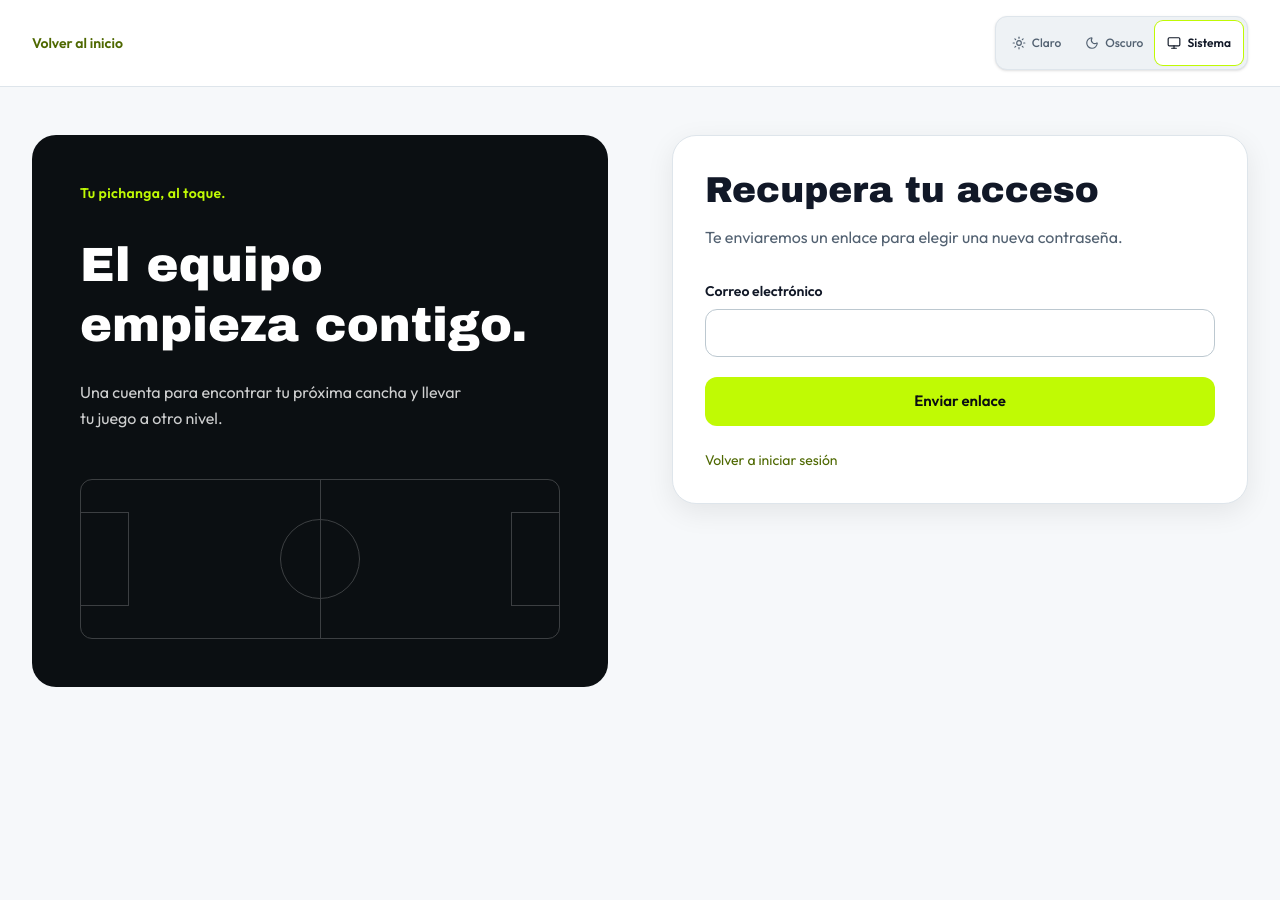
Scenario: recuperación muestra un mensaje que no revela si existe el correo
In the field with id "correo": (960, 333) [705,309,1215,357], type "ana@example.com"
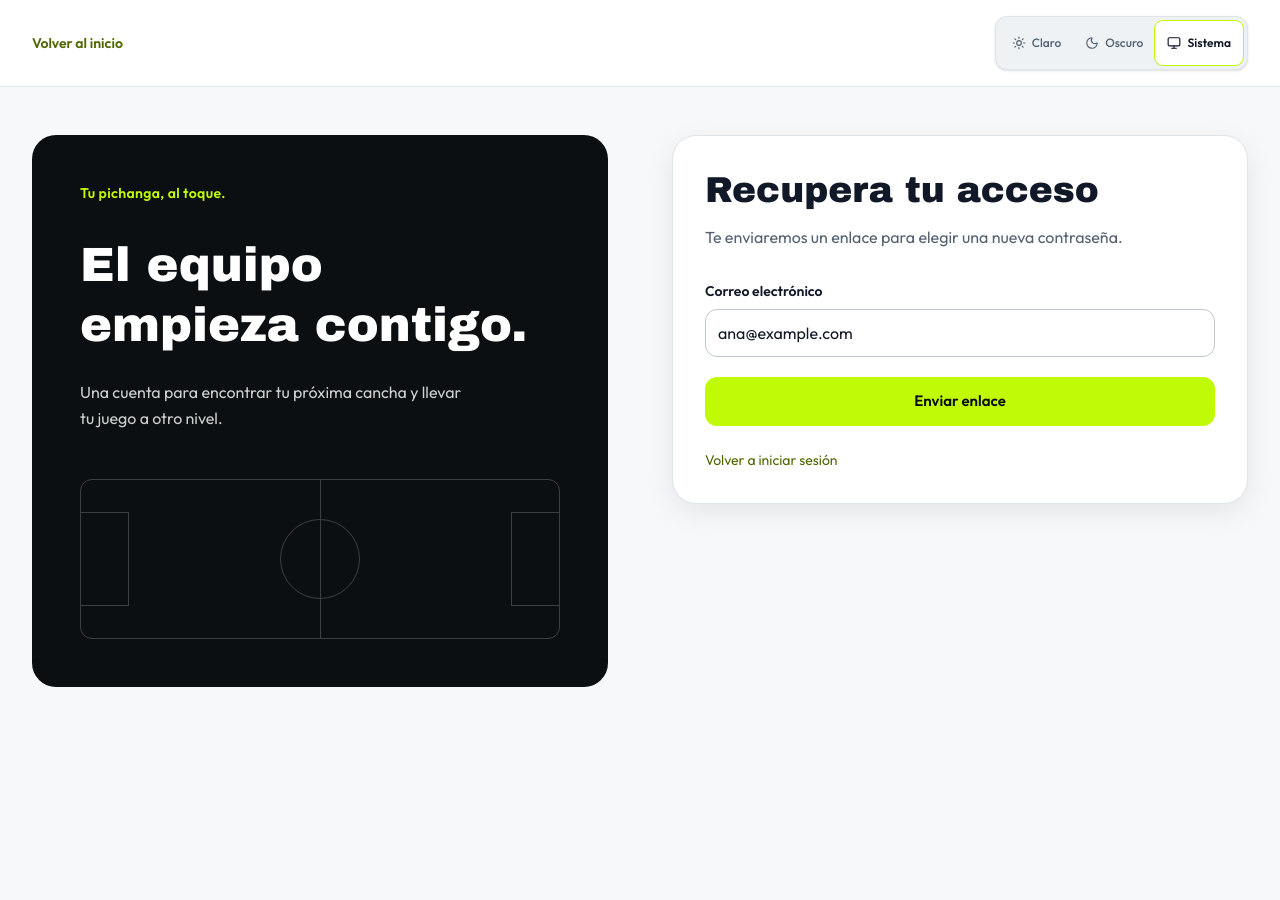
Submit the form, box [705,281,1215,426]
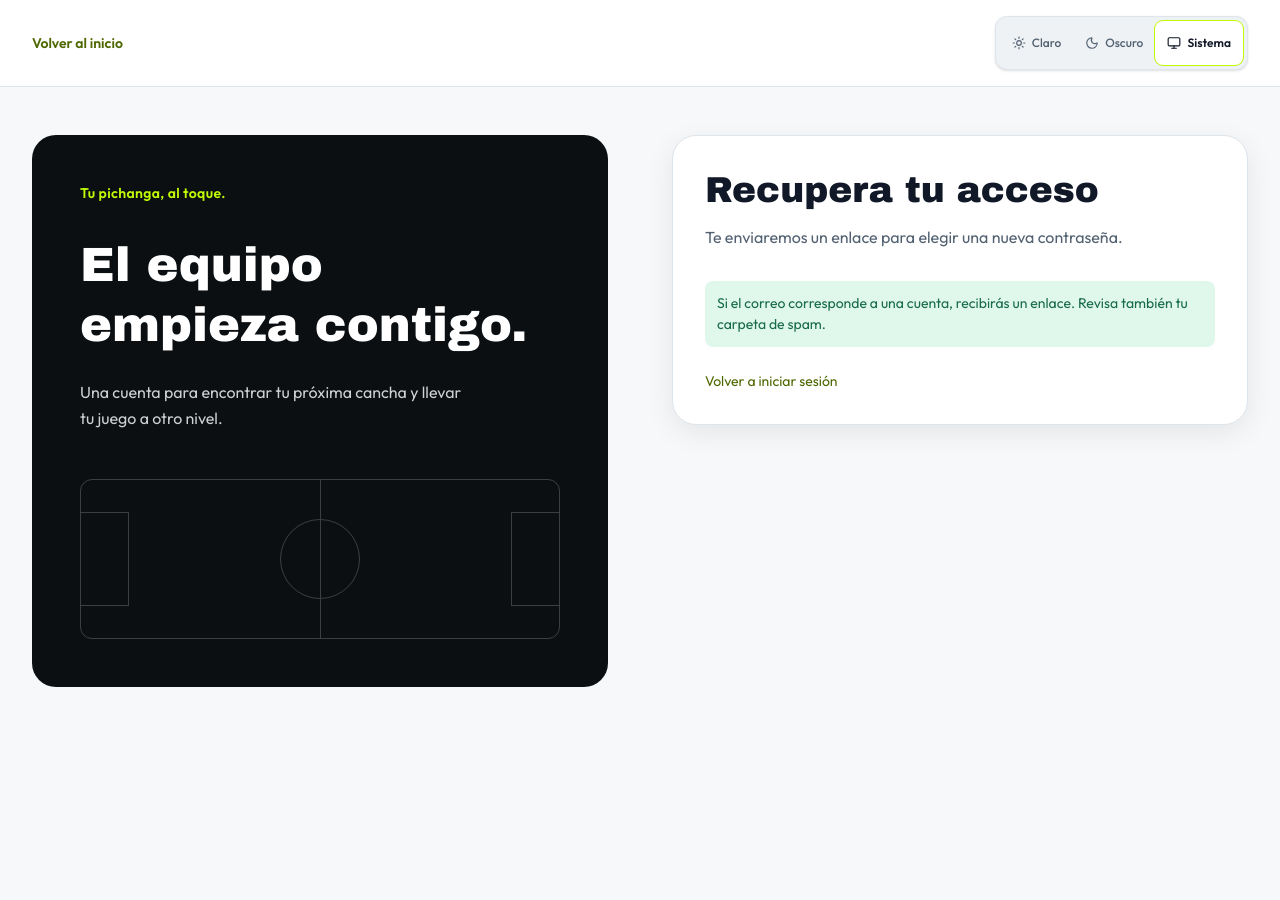
expect the message shows "Si el correo corresponde a una cuenta": met, box [717,294,1188,333]
